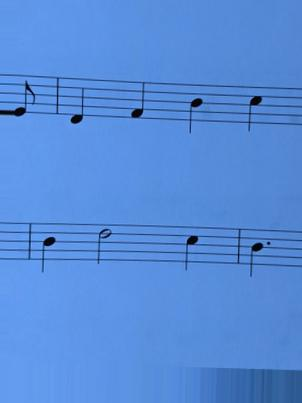B: (35, 215, 60, 277), (244, 226, 265, 284), (185, 80, 205, 139)
D: (63, 72, 89, 131)
F: (126, 74, 150, 129)
HC: (241, 81, 264, 139), (180, 220, 200, 275)
